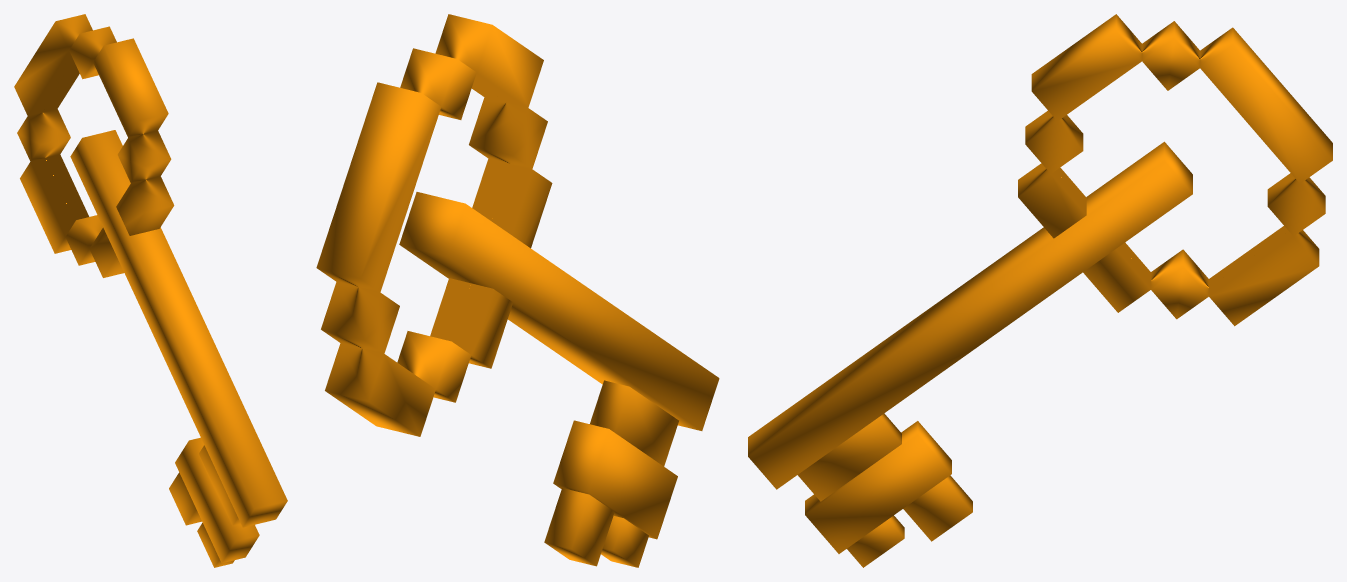
Rendered from Key.fbx.
3 renders of one model, left to right at view 1: azimuth 30°, elevation 25°; view 2: azimuth 150°, elevation 25°; view 3: azimuth 270°, elevation 25°, orthographic. The views are drawn at different scales.
Parts seen in each view (by area): view 1: K; view 2: K; view 3: K.
Boxes of the visible parts, <box> form: K: <box>14,14,287,567</box>; K: <box>316,14,719,567</box>; K: <box>748,14,1332,567</box>.
Size of the model in its own units: 20 by 257 by 252.
